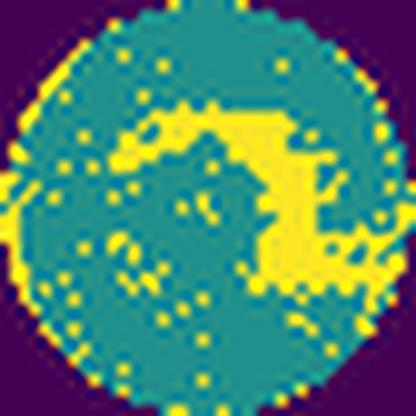Donut: (95, 92, 415, 333)
